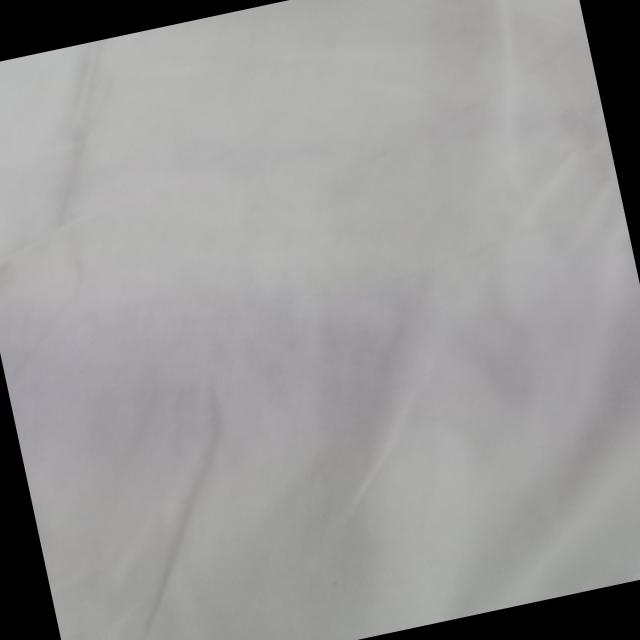stain: (13, 199, 604, 482)
